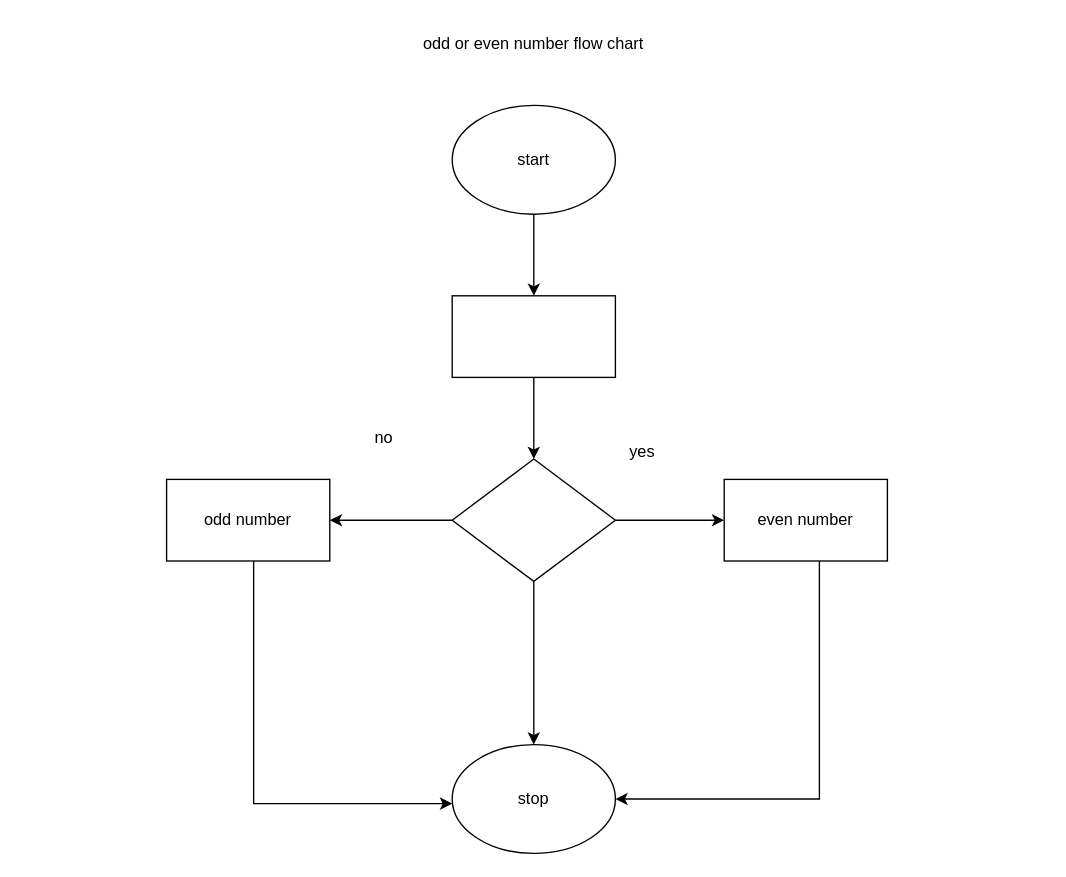
Some shapes in this 1066 by 877 pixel diagram are drawn without their labels. The shapes that lost their labels are listed below. From the top down, each one's centre as x and y in pixels, then its label:
At point 533,335: "number = 4".
At point 533,519: "if number %2 ==0".
